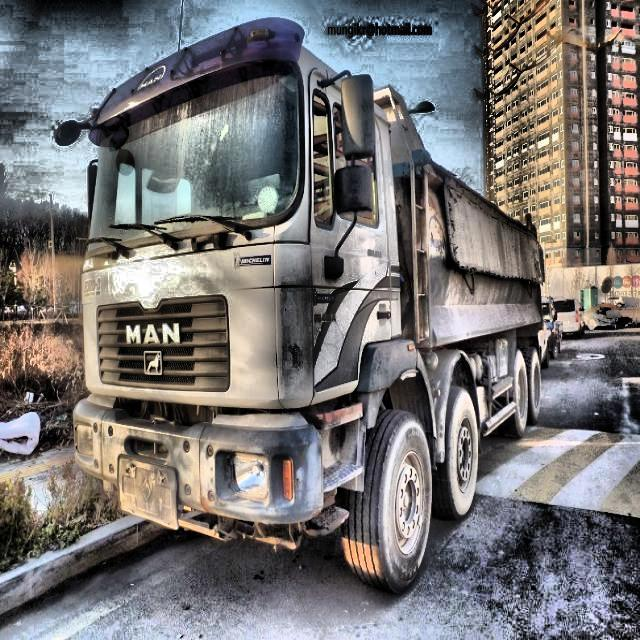dump_truck: (74, 18, 545, 598)
